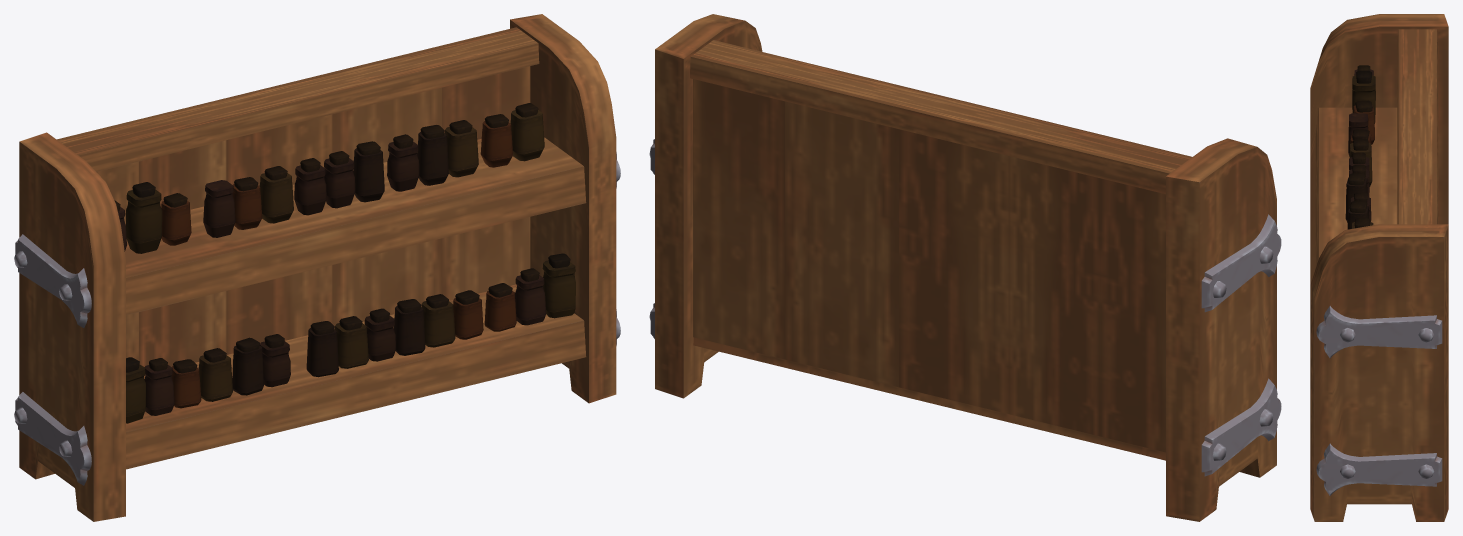
Rendered from shelf_small_bottles.glb.
The picture shows the model from 3 angles, left to right: view 1: azimuth 30°, elevation 25°; view 2: azimuth 150°, elevation 25°; view 3: azimuth 270°, elevation 25°; orthographic projection. The views are drawn at different scales.
Visible parts, largest first — view 1: Shelf_Small_Bottles; view 2: Shelf_Small_Bottles; view 3: Shelf_Small_Bottles.
Part boxes in pixels (x1,y1,x2,y2): Shelf_Small_Bottles: (14,14,620,521); Shelf_Small_Bottles: (649,14,1281,521); Shelf_Small_Bottles: (1310,14,1448,521).
Size of the model in its own units: 1.14 by 0.6474 by 0.2846.
Materials: 3 (3 with a texture image).
